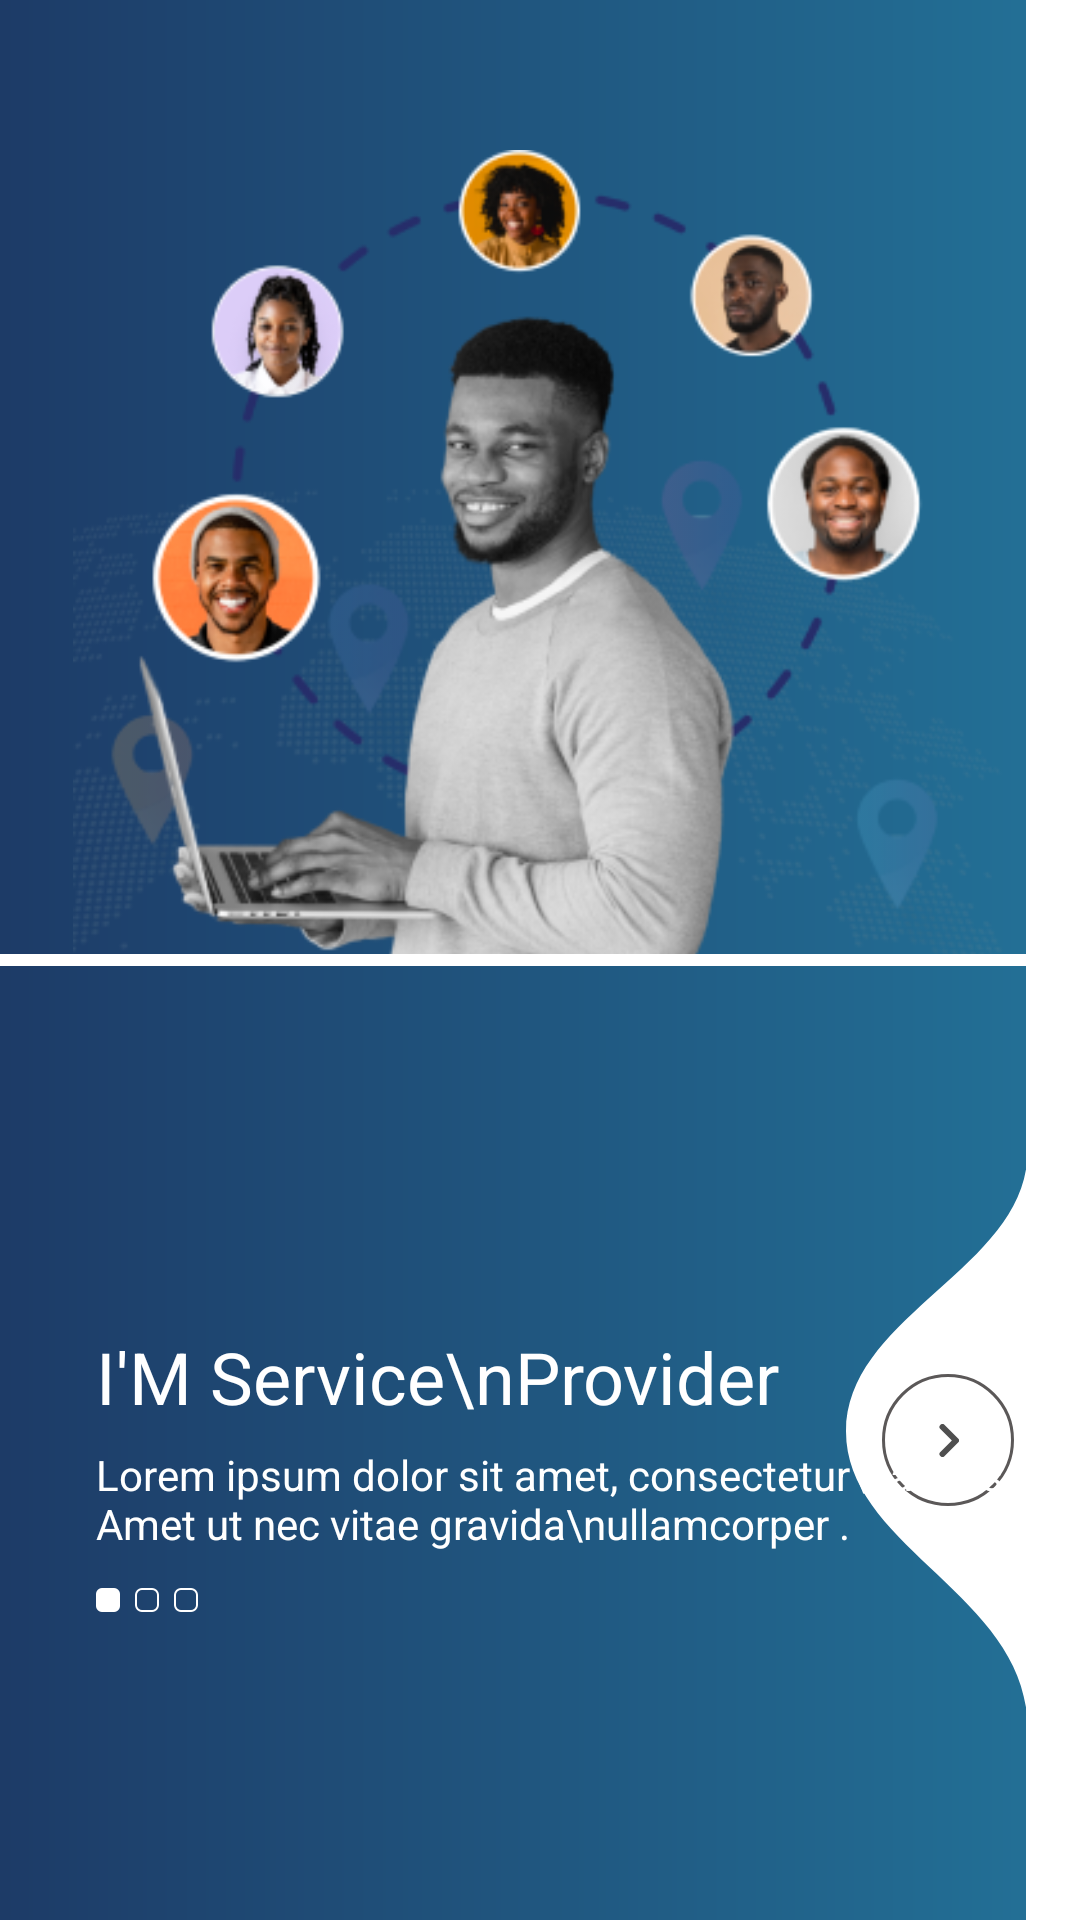

Where icons sit on this 1080 × 1920 app screen, as [x1, y1, x2, y2]:
right arrow: [882, 1374, 1014, 1506]
